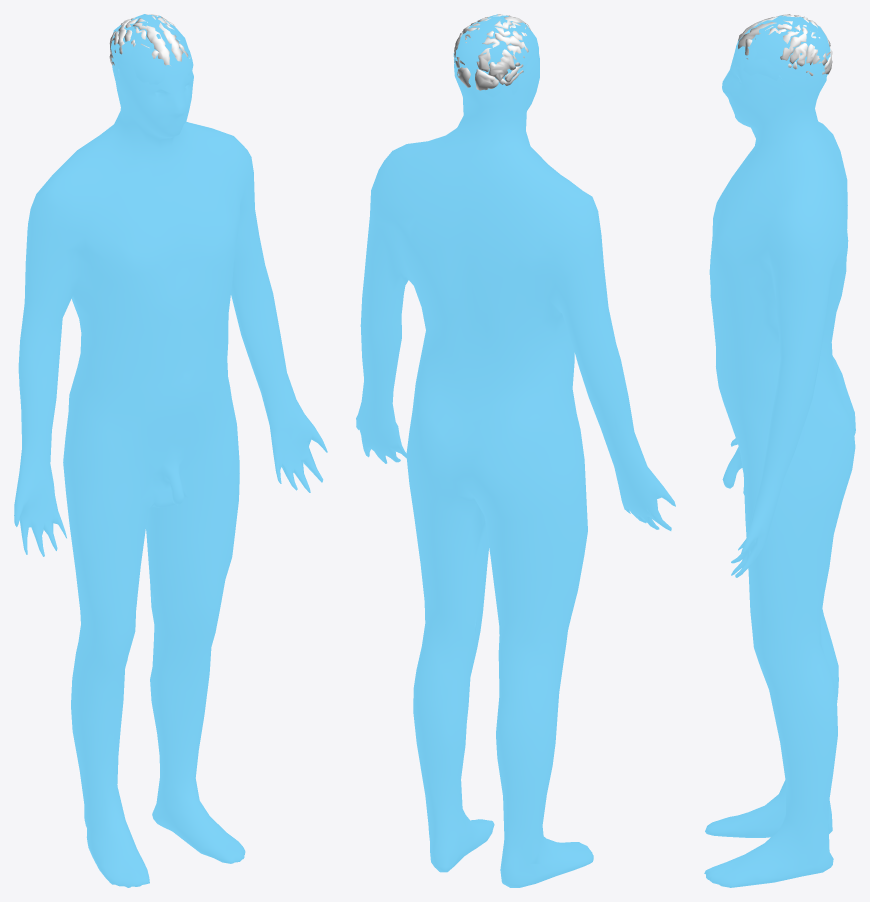
File: human_anatomy.glb
The picture shows the model from 3 angles, left to right: view 1: azimuth 30°, elevation 25°; view 2: azimuth 150°, elevation 25°; view 3: azimuth 270°, elevation 25°; orthographic projection. The views are drawn at different scales.
Parts seen in each view (by area): view 1: Body; view 2: Body; view 3: Body, Cortex_FMA72654_L.
Boxes of the visible parts, bbox=[...] form: Body: bbox=[14, 14, 327, 887]; Body: bbox=[356, 14, 675, 887]; Body: bbox=[704, 15, 855, 887]; Cortex_FMA72654_L: bbox=[738, 20, 792, 48].
Bounding box in the file's own units: 0.6458 × 1.64 × 0.2694.
